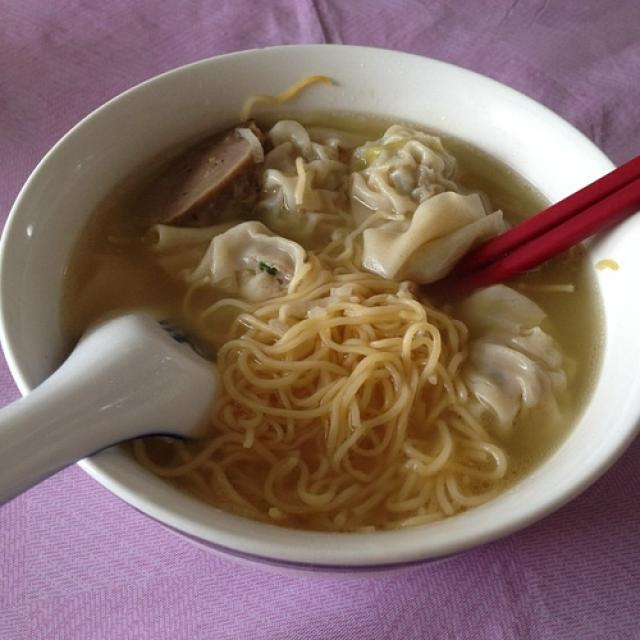汤锅炖物: (0, 26, 635, 562)
